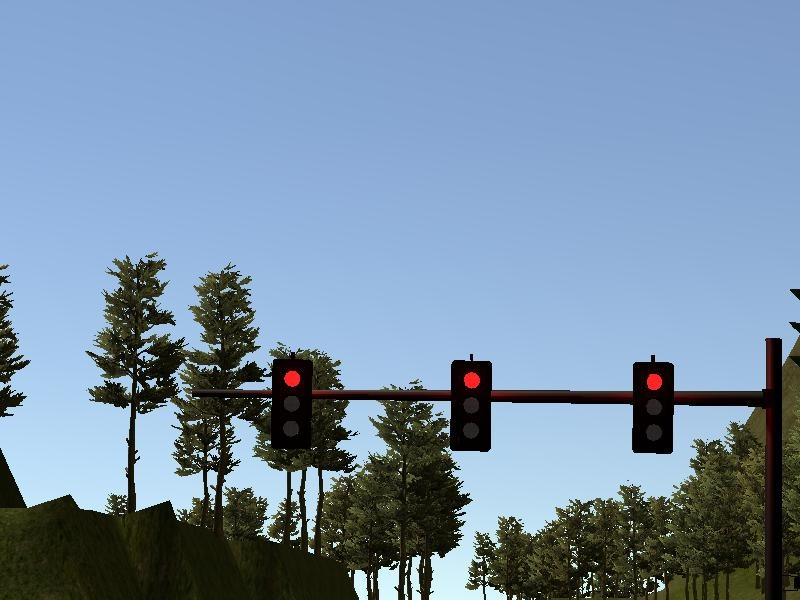Red: (629, 359, 677, 457), (447, 356, 494, 456), (270, 358, 315, 452)
